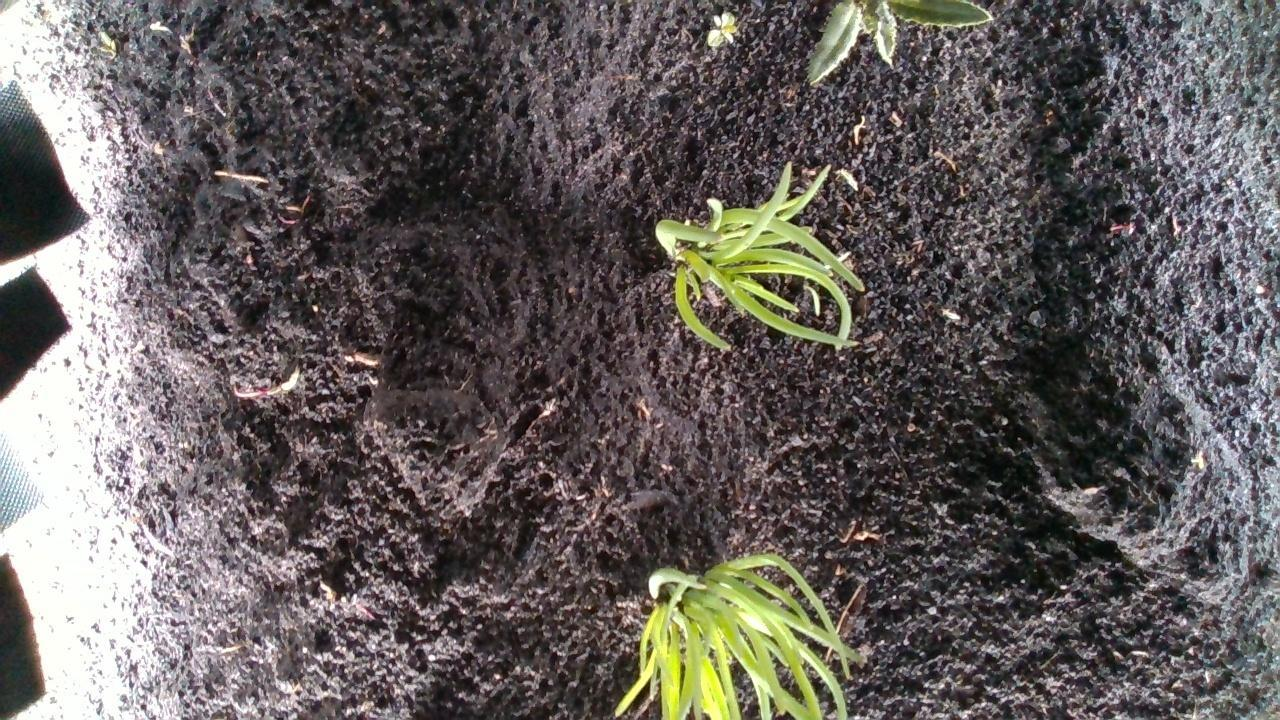weed: (704, 9, 736, 50)
